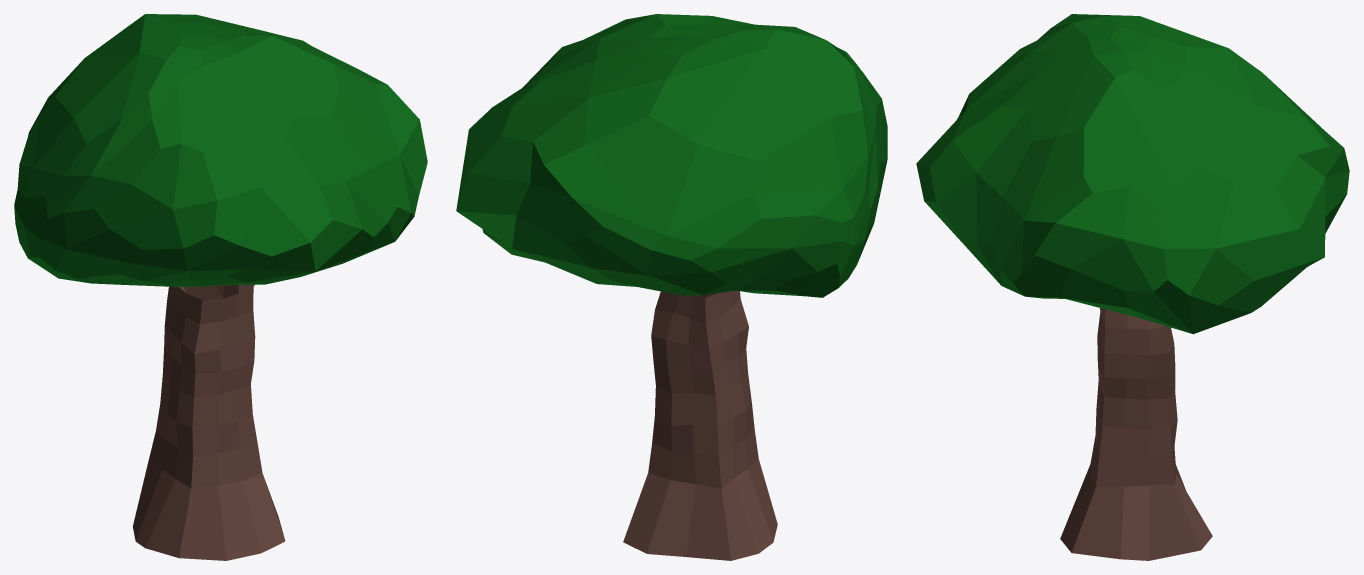
File: tree_var_2.glb
The picture shows the model from 3 angles, left to right: view 1: azimuth 30°, elevation 25°; view 2: azimuth 150°, elevation 25°; view 3: azimuth 270°, elevation 25°; orthographic projection. The views are drawn at different scales.
Visible parts, largest first — view 1: Icosphere, Cube; view 2: Icosphere, Cube; view 3: Icosphere, Cube.
Boxes of the visible parts, x1,y1,x2,y2 form: Icosphere: (14,14,427,286); Cube: (132,284,285,560); Icosphere: (456,14,887,297); Cube: (623,290,777,560); Icosphere: (916,14,1349,334); Cube: (1060,308,1212,560).
Size of the model in its own units: 8.41 by 10.79 by 8.61.
